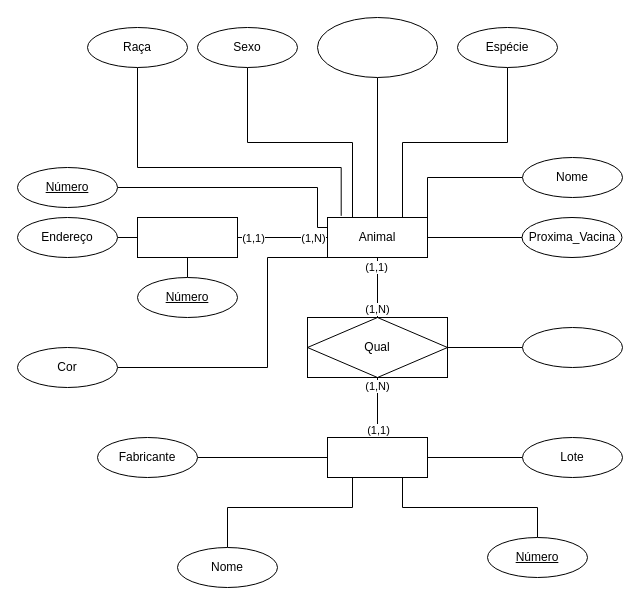
This 640x605 diagram has some shape labels left out. The shapes that lost their labels are listed below. From the top down, each one's centre as x and y in pixels, then its label:
At (x=377, y=47): "Data_de_Nascimento".
At (x=187, y=237): "Clientes".
At (x=572, y=347): "Registro_de_data".
At (x=377, y=457): "Vacinas".
